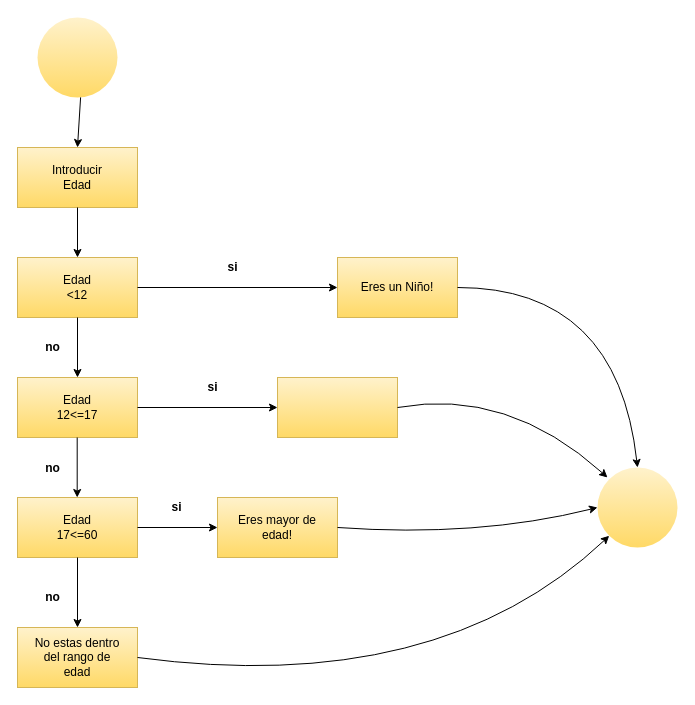
The diagram is 695 pixels wide and 705 high, and some of its shapes have lost their labels. Here are the shapes that lost their labels. From the top down, the centre of each, then its label:
At [77,57]: "INICIO".
At [337,407]: "Eres un Adolecente!".
At [637,507]: "FIN".
